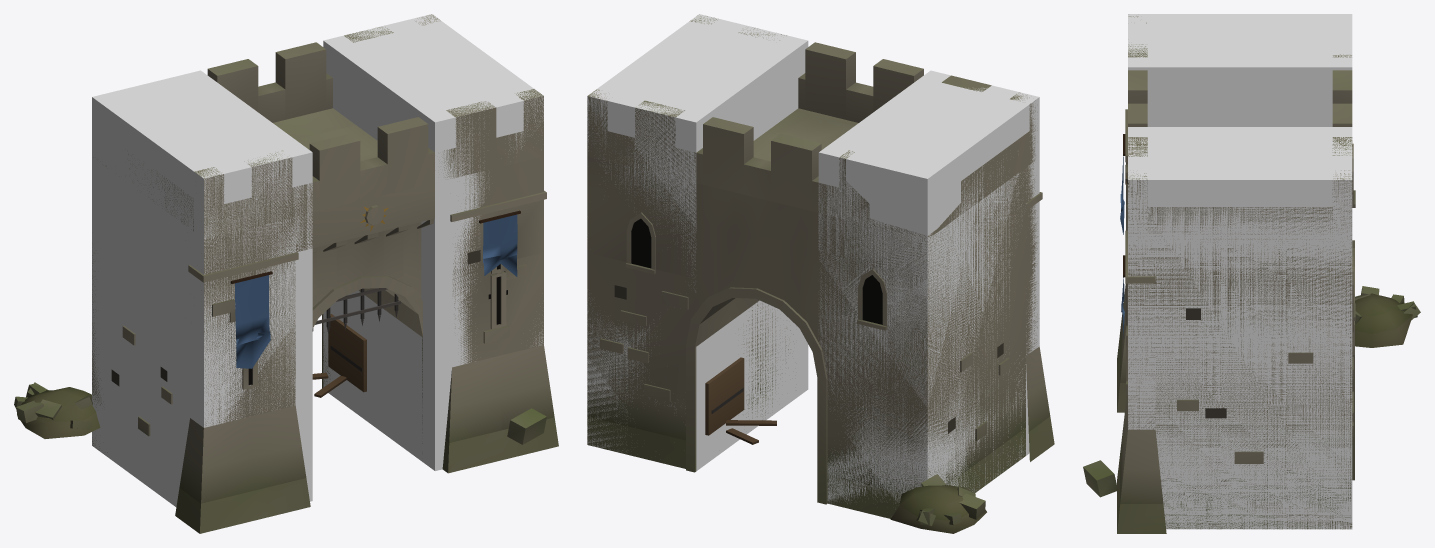
File: castle_gate.glb
3 views of the same model, side by side, from view 1: azimuth 30°, elevation 25°; view 2: azimuth 150°, elevation 25°; view 3: azimuth 270°, elevation 25° (orthographic).
Parts seen in each view (by area): view 1: castle_gate, COL_left, COL_right; view 2: castle_gate, COL_left, COL_right; view 3: COL_right, castle_gate, COL_left.
Boxes of the visible parts, bbox=[...] form: castle_gate: bbox=[14, 14, 558, 533]; COL_left: bbox=[92, 70, 312, 506]; COL_right: bbox=[323, 14, 543, 470]; castle_gate: bbox=[587, 15, 1054, 533]; COL_left: bbox=[818, 70, 1039, 509]; COL_right: bbox=[587, 14, 808, 470]; COL_right: bbox=[1128, 127, 1352, 529]; castle_gate: bbox=[1083, 16, 1420, 533]; COL_left: bbox=[1128, 14, 1352, 126].
Size of the model in its own units: 12.13 by 9.8 by 8.6.
